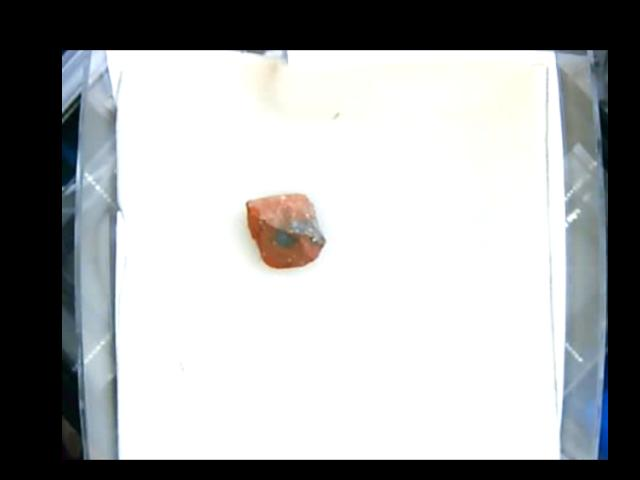Brisk: (247, 189, 325, 267)
